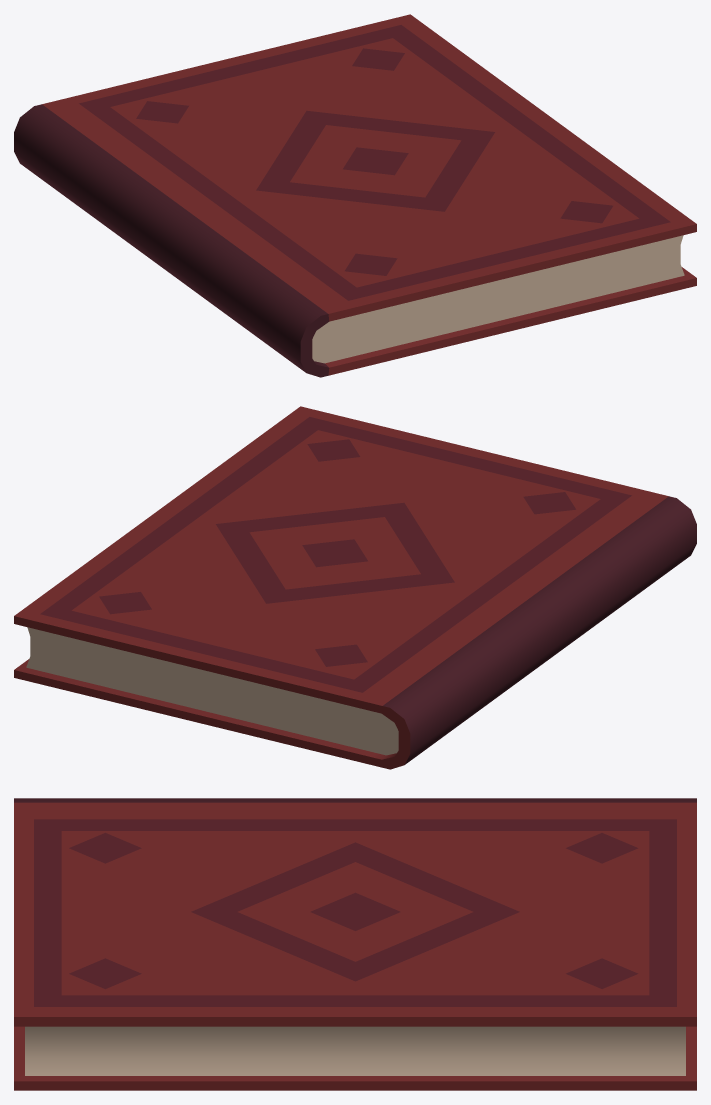
File: Book_07.fbx
3 views of the same model, one above another, from view 1: azimuth 30°, elevation 25°; view 2: azimuth 150°, elevation 25°; view 3: azimuth 270°, elevation 25° (orthographic). The views are drawn at different scales.
Parts seen in each view (by area): view 1: Book_07; view 2: Book_07; view 3: Book_07.
Boxes of the visible parts, box(x1,y1,x2,y2) form: Book_07: box(14, 14, 696, 377); Book_07: box(14, 406, 696, 769); Book_07: box(14, 798, 696, 1090).
Bounding box in the file's own units: 0.2618 × 0.0407 × 0.3277.
